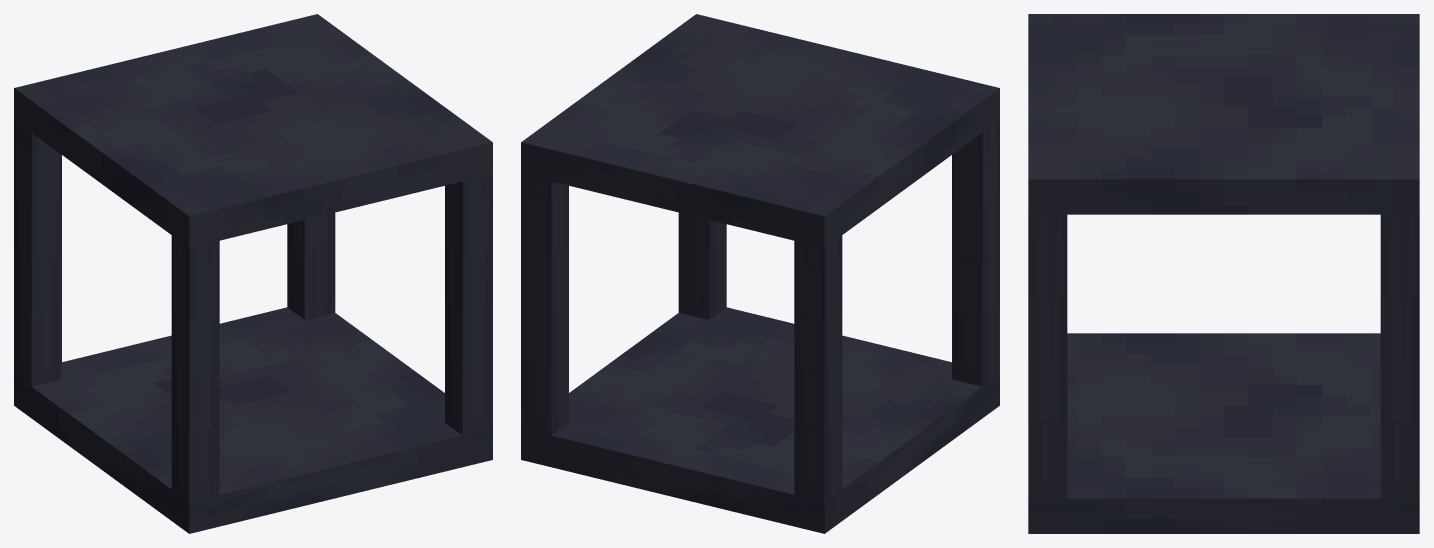
The model's file is glasscube.obj.
3 views of the same model, side by side, from view 1: azimuth 30°, elevation 25°; view 2: azimuth 150°, elevation 25°; view 3: azimuth 270°, elevation 25° (orthographic). The views are drawn at different scales.
Visible parts, largest first — view 1: Cube.001_Cube.000; view 2: Cube.001_Cube.000; view 3: Cube.001_Cube.000.
Part boxes in pixels (<box>): Cube.001_Cube.000: <box>14,14,492,533</box>; Cube.001_Cube.000: <box>521,14,999,533</box>; Cube.001_Cube.000: <box>1028,14,1419,533</box>.
Size of the model in its own units: 1 by 1 by 1.
